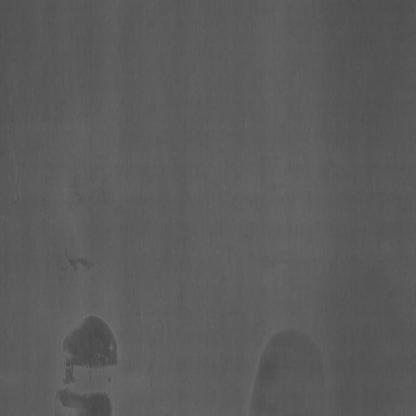oil_spot: (245, 323, 334, 416), (54, 308, 119, 414)
